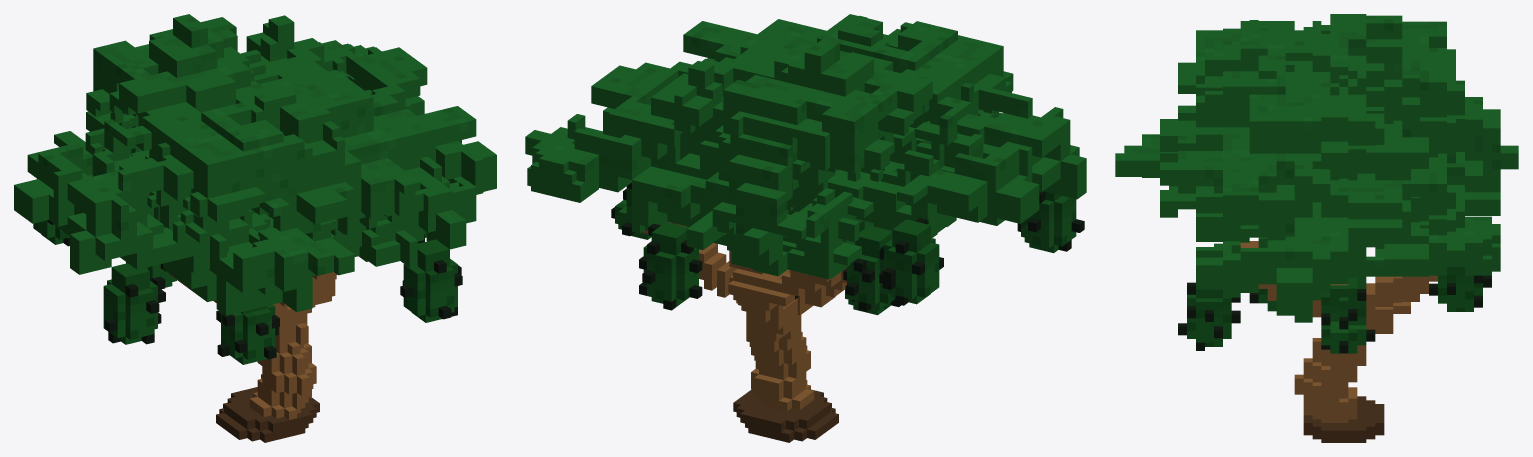
The model's file is 2_1 grav.obj.
3 renders of one model, left to right at view 1: azimuth 30°, elevation 25°; view 2: azimuth 150°, elevation 25°; view 3: azimuth 270°, elevation 25°, orthographic. The views are drawn at different scales.
Bounding box in the file's own units: 5.4 × 4.7 × 4.5.
1 material, 1 textured.
